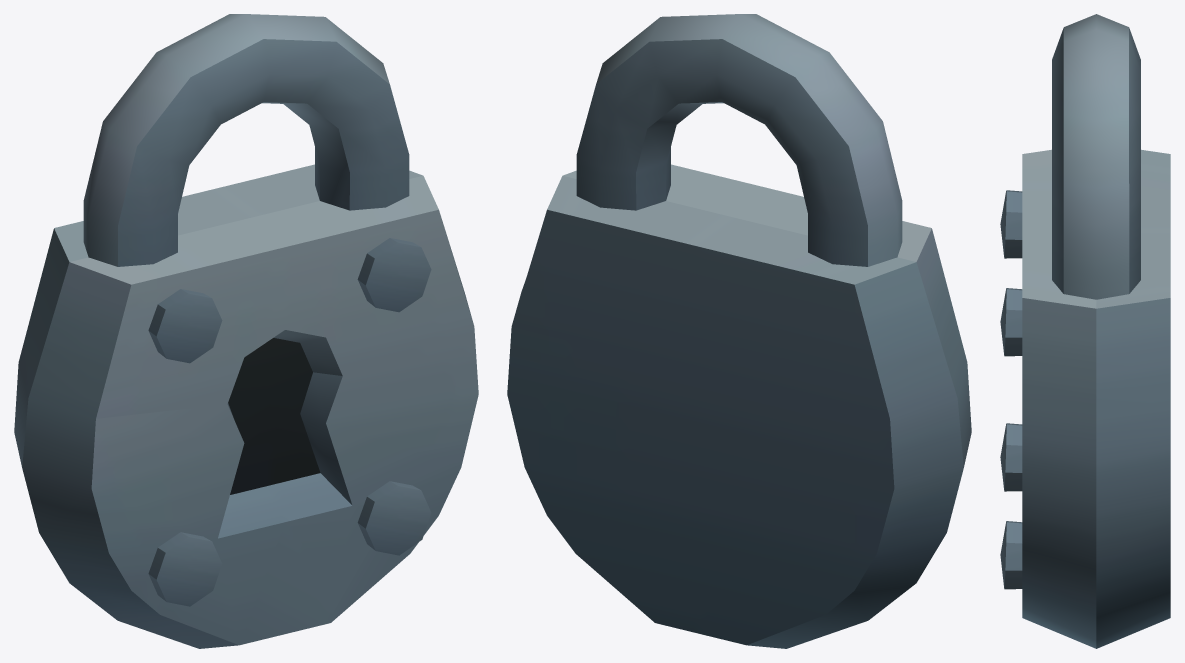
Rendered from lock_b.glb.
3 views of the same model, side by side, from view 1: azimuth 30°, elevation 25°; view 2: azimuth 150°, elevation 25°; view 3: azimuth 270°, elevation 25° (orthographic). The views are drawn at different scales.
Parts seen in each view (by area): view 1: lock_B, lock_B_part; view 2: lock_B, lock_B_part; view 3: lock_B, lock_B_part.
Part boxes in pixels (left/top/right/bottom): lock_B: left=14, top=164, right=478, bottom=648; lock_B_part: left=83, top=14, right=409, bottom=266; lock_B: left=507, top=164, right=971, bottom=648; lock_B_part: left=576, top=14, right=902, bottom=266; lock_B: left=1000, top=149, right=1170, bottom=648; lock_B_part: left=1052, top=14, right=1140, bottom=299.
Size of the model in its own units: 0.6626 by 0.8799 by 0.2272.
1 material, 1 textured.
